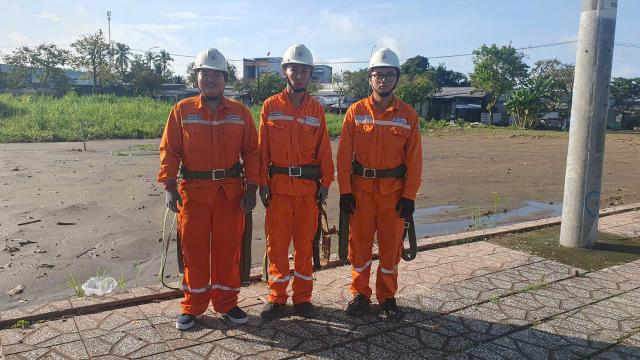gloves: (158, 176, 195, 214), (332, 188, 364, 221), (393, 195, 424, 224), (255, 178, 275, 212), (240, 183, 257, 218), (315, 183, 331, 213)
harness: (260, 158, 330, 184), (171, 160, 249, 182), (346, 159, 410, 184)
helmet: (345, 44, 415, 71), (270, 40, 323, 74), (193, 45, 239, 75)
shoes: (218, 294, 252, 326), (291, 293, 327, 323), (171, 300, 210, 327), (253, 295, 293, 321), (338, 293, 374, 318), (380, 295, 408, 326)
